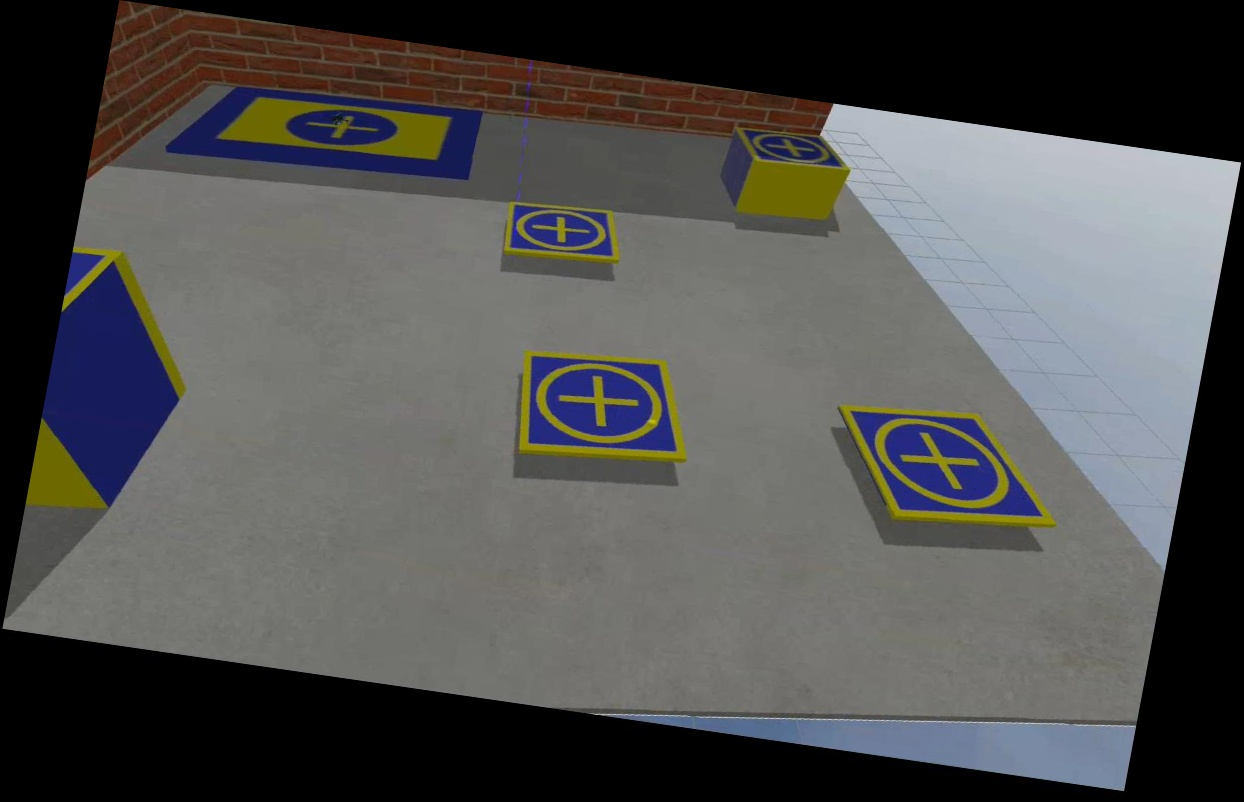large_base: (165, 66, 490, 197)
small_base: (822, 392, 1073, 541), (507, 340, 705, 485), (502, 195, 631, 268), (728, 120, 855, 176), (61, 241, 125, 321)
